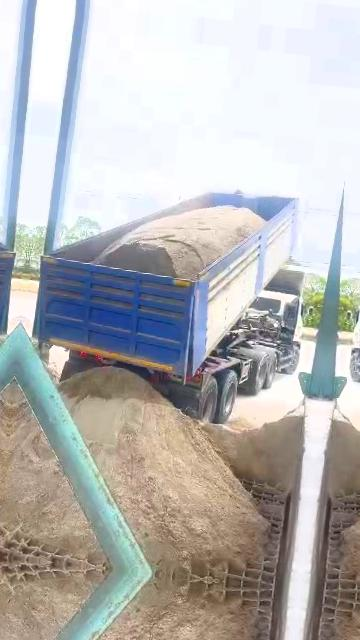sand: (60, 367, 266, 577), (0, 403, 102, 562), (95, 206, 265, 278), (203, 408, 302, 491), (43, 362, 60, 383)
